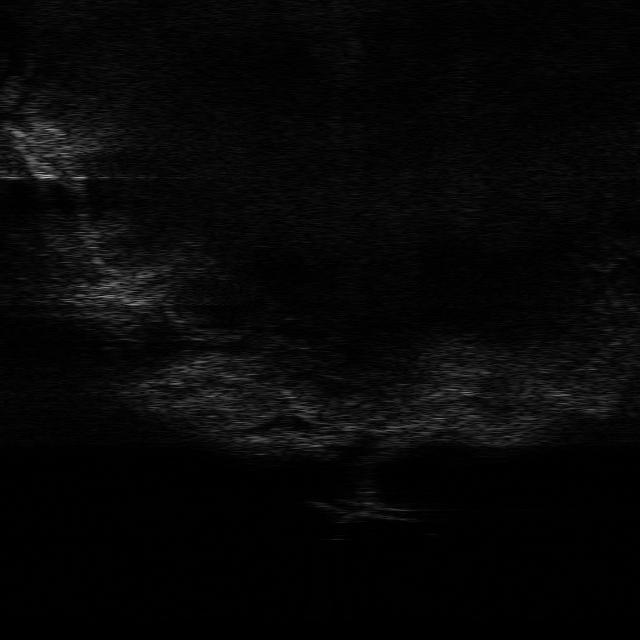plane: (310, 498, 421, 522)
